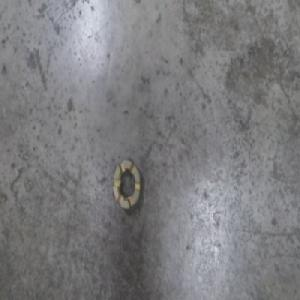Nut: (112, 157, 144, 214)
